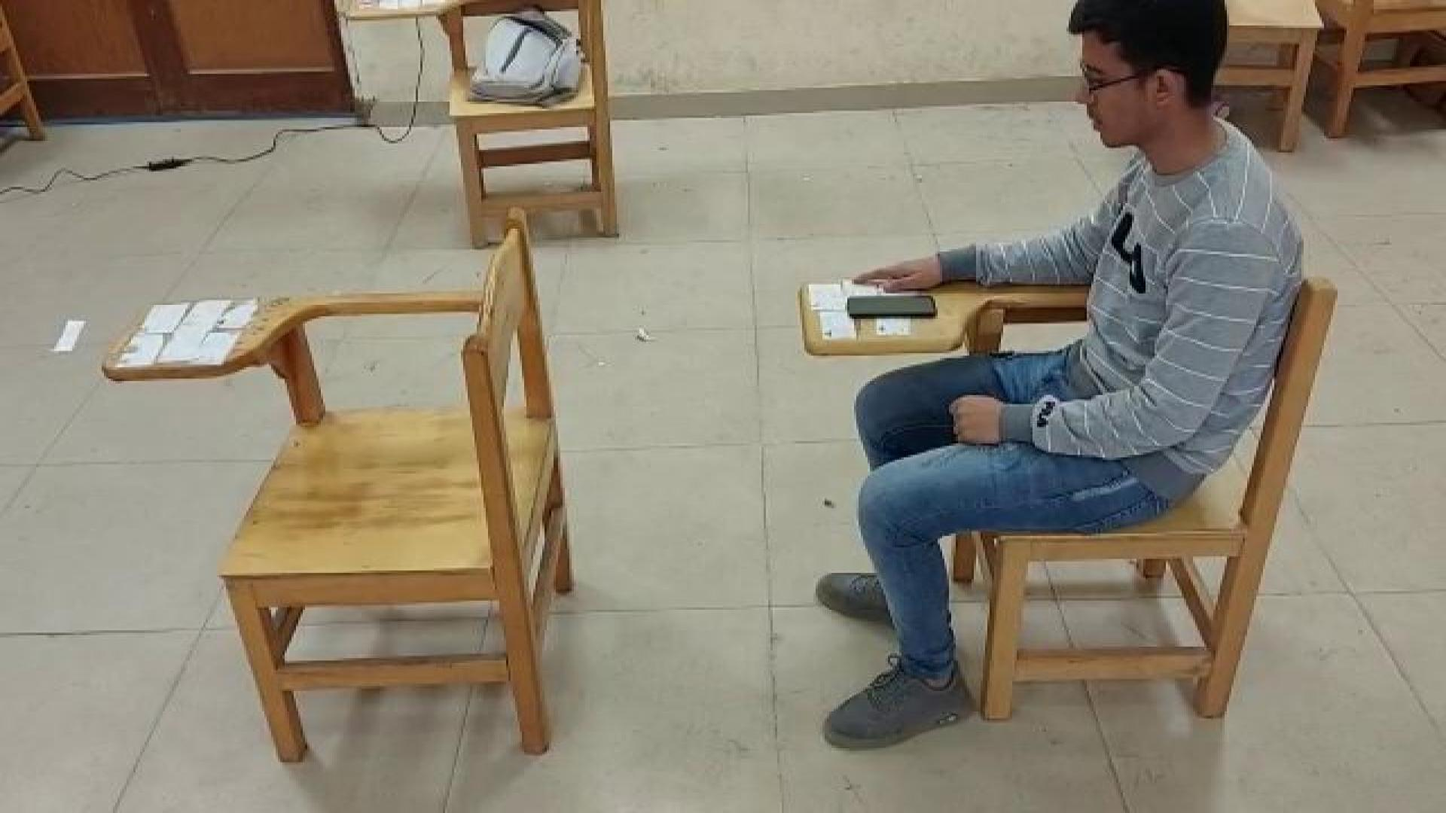phone: (847, 293, 938, 316)
